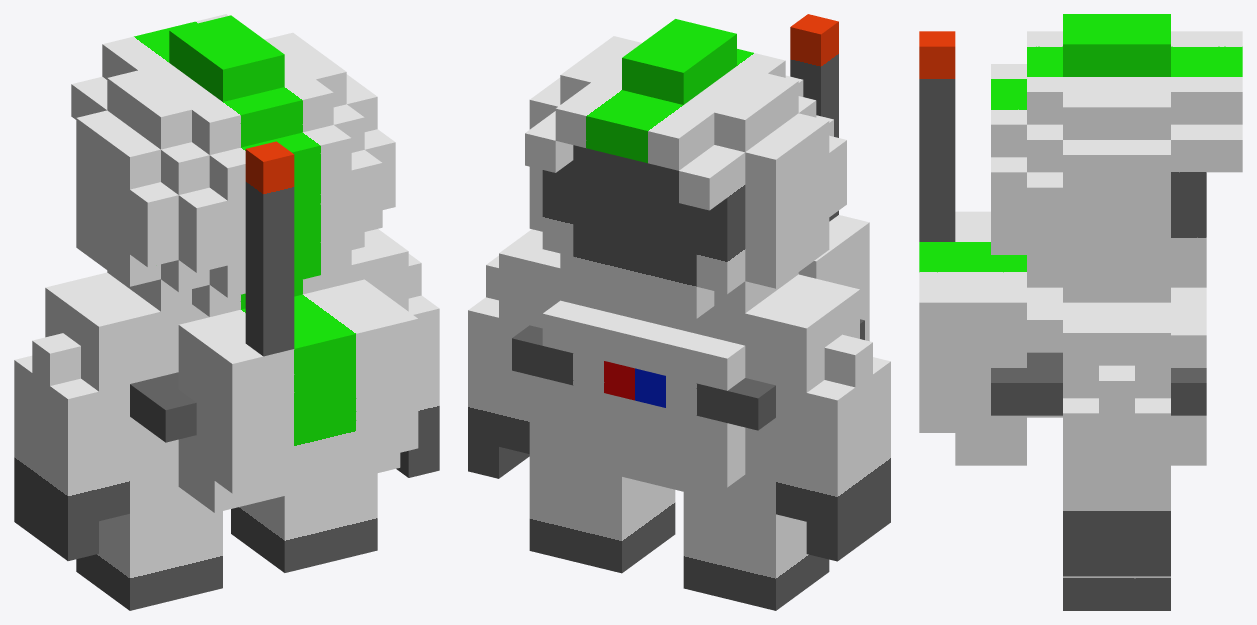
Rendered from player.glb.
3 views of the same model, side by side, from view 1: azimuth 30°, elevation 25°; view 2: azimuth 150°, elevation 25°; view 3: azimuth 270°, elevation 25° (orthographic).
Parts seen in each view (by area): view 1: Untitled; view 2: Untitled; view 3: Untitled.
Boxes of the visible parts, <box> form: Untitled: <box>14,14,439,610</box>; Untitled: <box>468,14,890,610</box>; Untitled: <box>919,14,1242,610</box>.
Bounding box in the file's own units: 1.2 × 1.6 × 0.9.
1 material, 1 textured.
